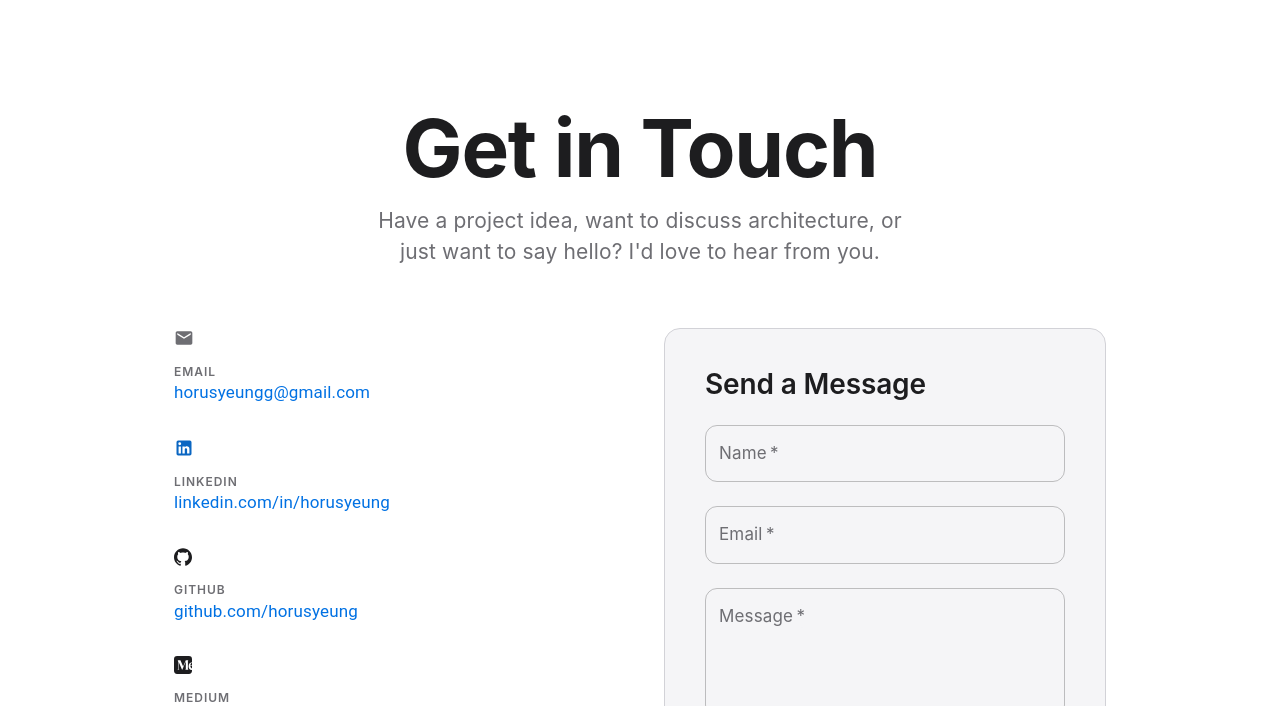
Test: ContactPage form › shows a field error, focuses it and sends nothing for an invalid email
In the field labelled "Name *": (885, 453) [705, 425, 1065, 482], type "Ada"
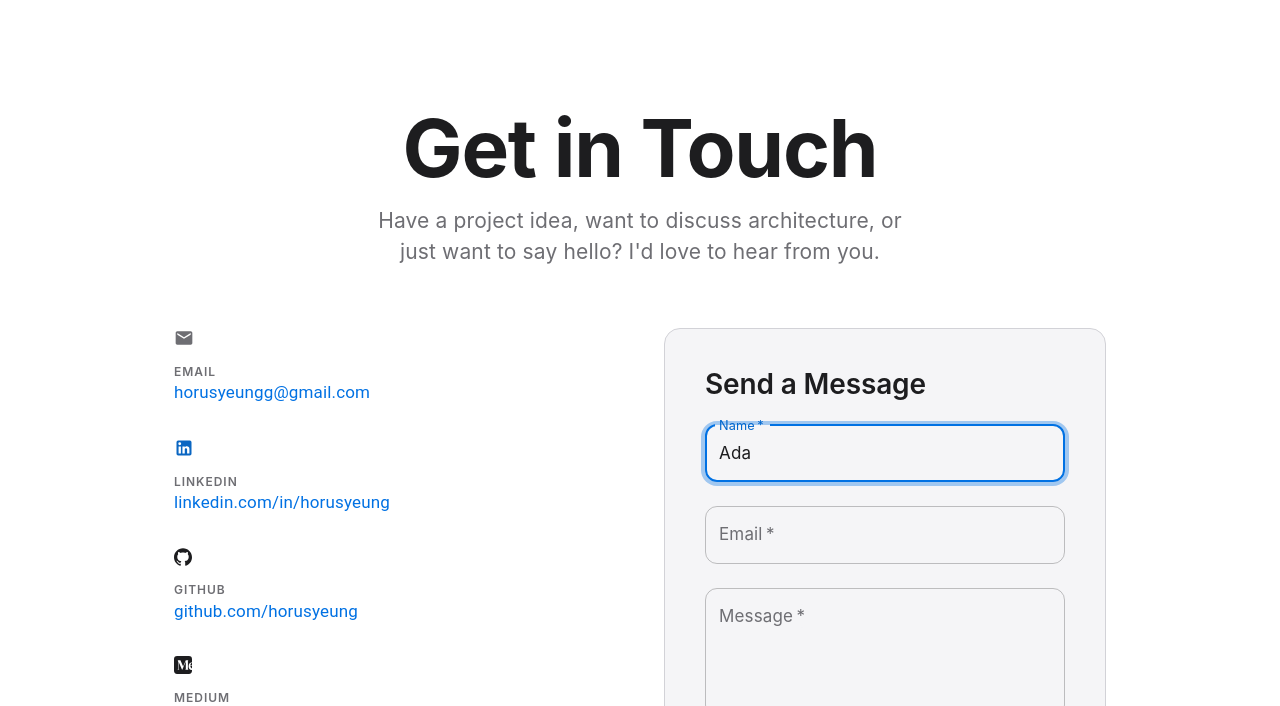
In the field labelled "Email *": (885, 535) [705, 506, 1065, 564], type "not-an-email"
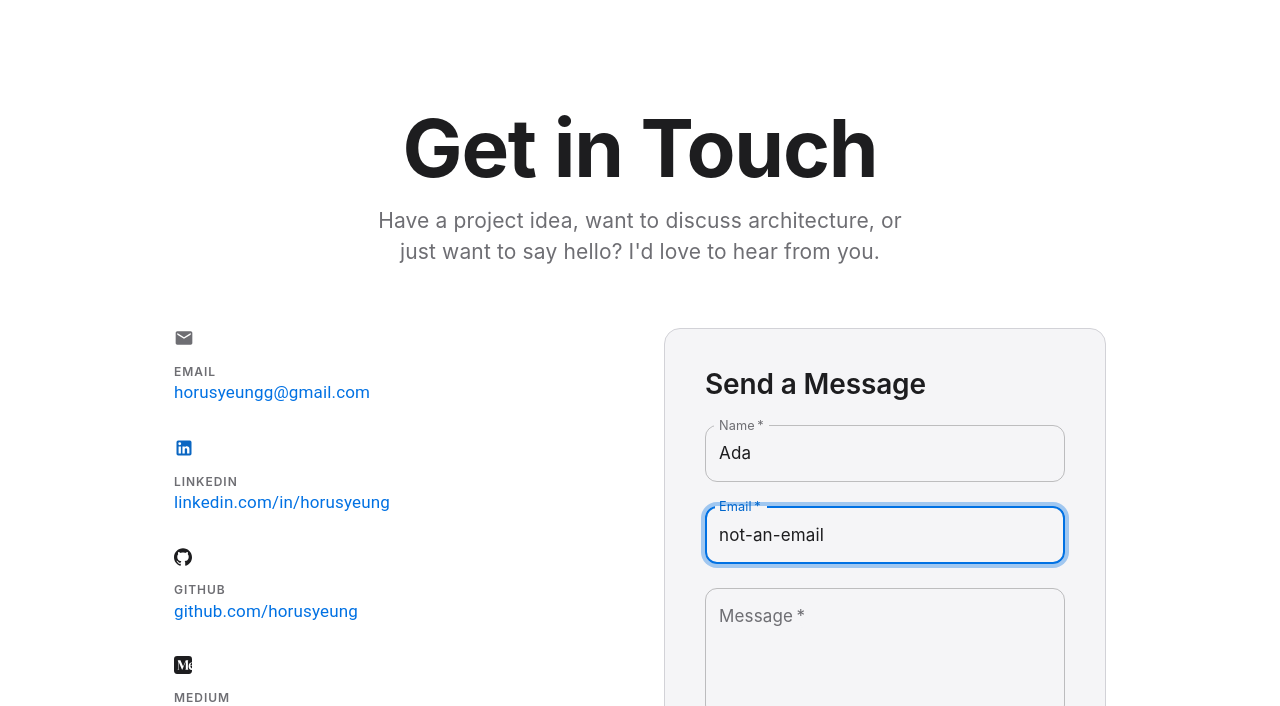
In the text box labelled "Message *": (885, 652) [719, 604, 1051, 700], type "Hello"
(page scrolled)
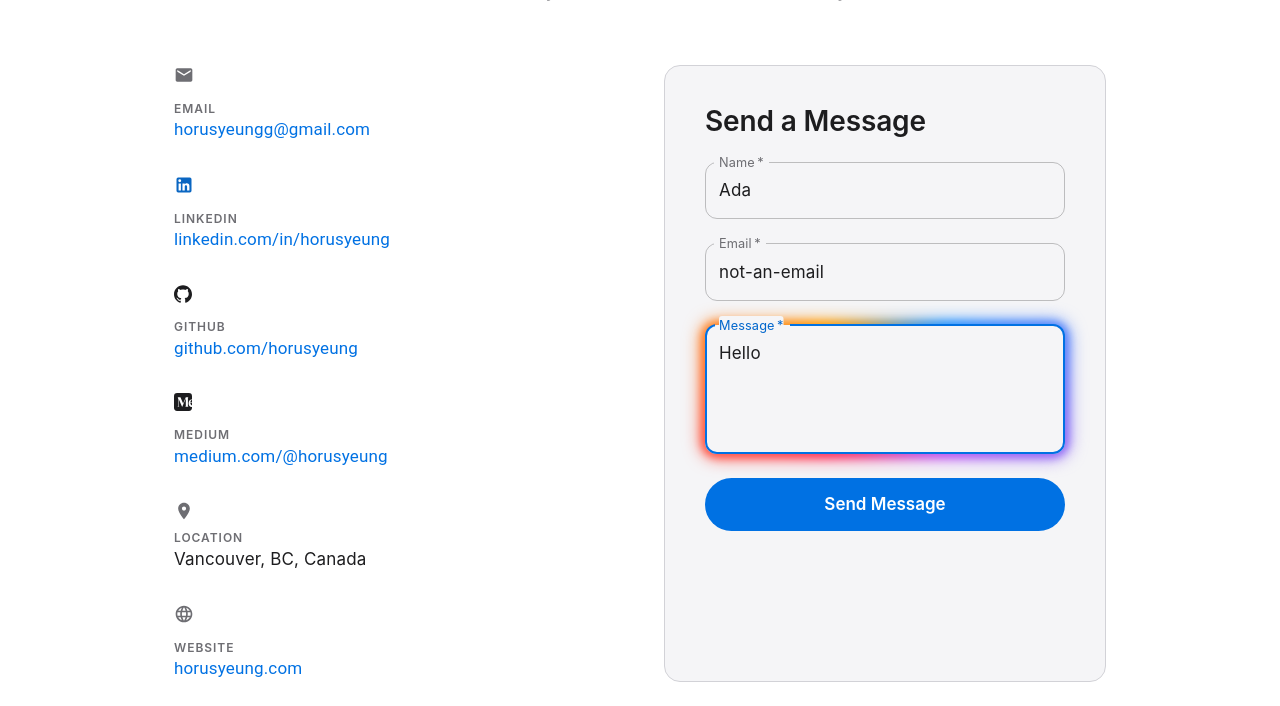
Submit the form with test id "contact-form", box [705, 162, 1065, 531]
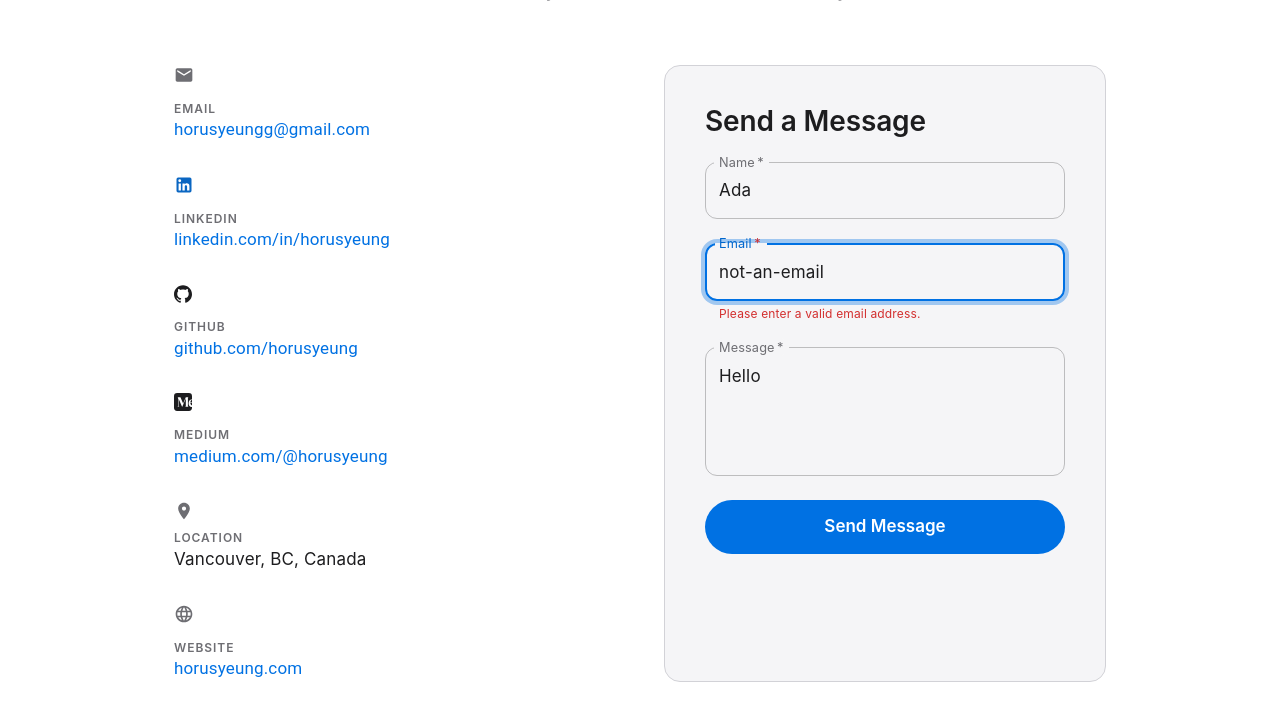
Expected: the text "Please enter a valid email address." is shown, [719, 306, 920, 320]
